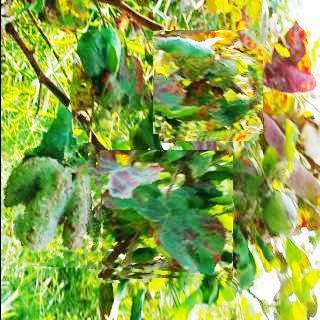blight: (99, 150, 231, 282), (152, 31, 262, 140)
leaf spot: (0, 146, 107, 269)
